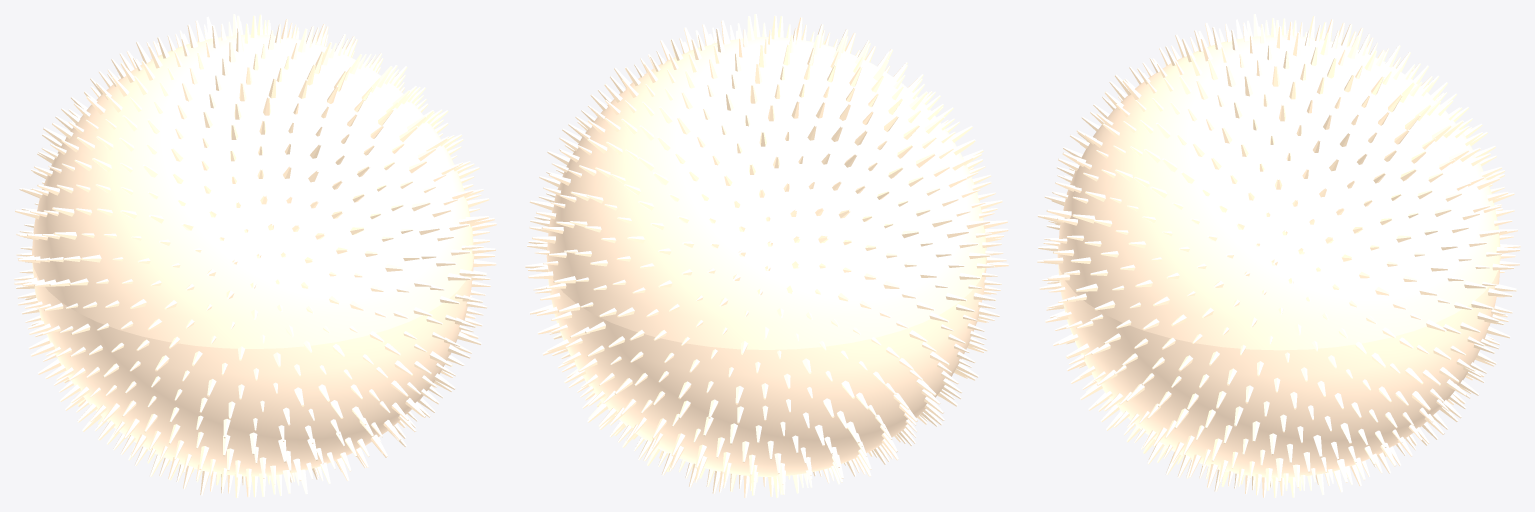
The model's file is fuzzy-signal.glb.
3 views of the same model, side by side, from view 1: azimuth 30°, elevation 25°; view 2: azimuth 150°, elevation 25°; view 3: azimuth 270°, elevation 25° (orthographic).
Visible parts, largest first — view 1: ShellTop, ShellBottom; view 2: ShellTop, ShellBottom; view 3: ShellTop, ShellBottom.
Boxes of the visible parts, x1,y1,x2,y2 form: ShellTop: [32, 34, 474, 348]; ShellBottom: [32, 257, 474, 476]; ShellTop: [546, 37, 986, 349]; ShellBottom: [547, 259, 986, 476]; ShellTop: [1057, 35, 1500, 350]; ShellBottom: [1058, 258, 1500, 477].
Size of the model in its own units: 2.18 by 2.2 by 2.18.
